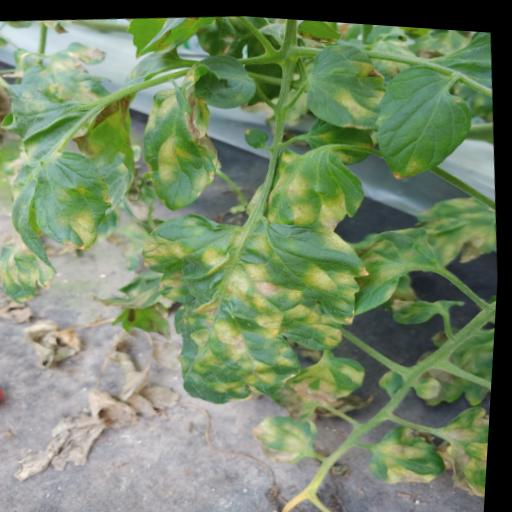Leaf Mold: (132, 193, 389, 416), (0, 75, 129, 311), (366, 54, 481, 179), (138, 82, 230, 214), (347, 217, 446, 316), (300, 34, 388, 136), (411, 185, 503, 266), (435, 389, 495, 497), (369, 415, 454, 483), (289, 346, 373, 405), (252, 406, 327, 466)
